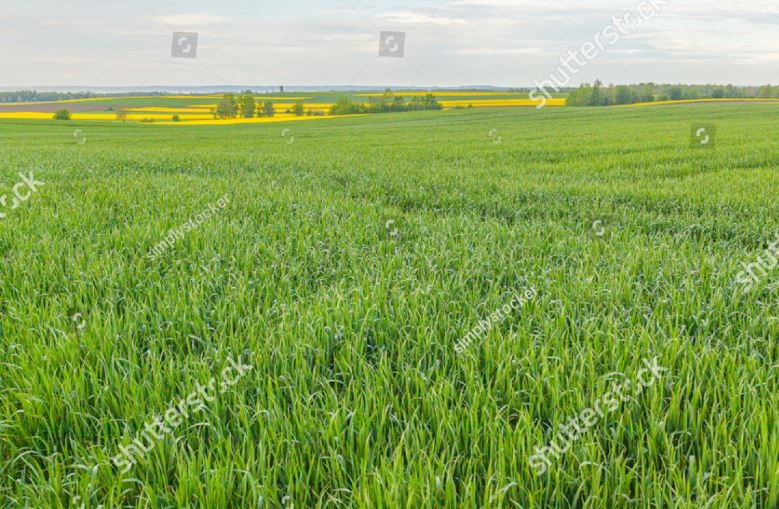Wheat: (93, 264, 548, 493)
